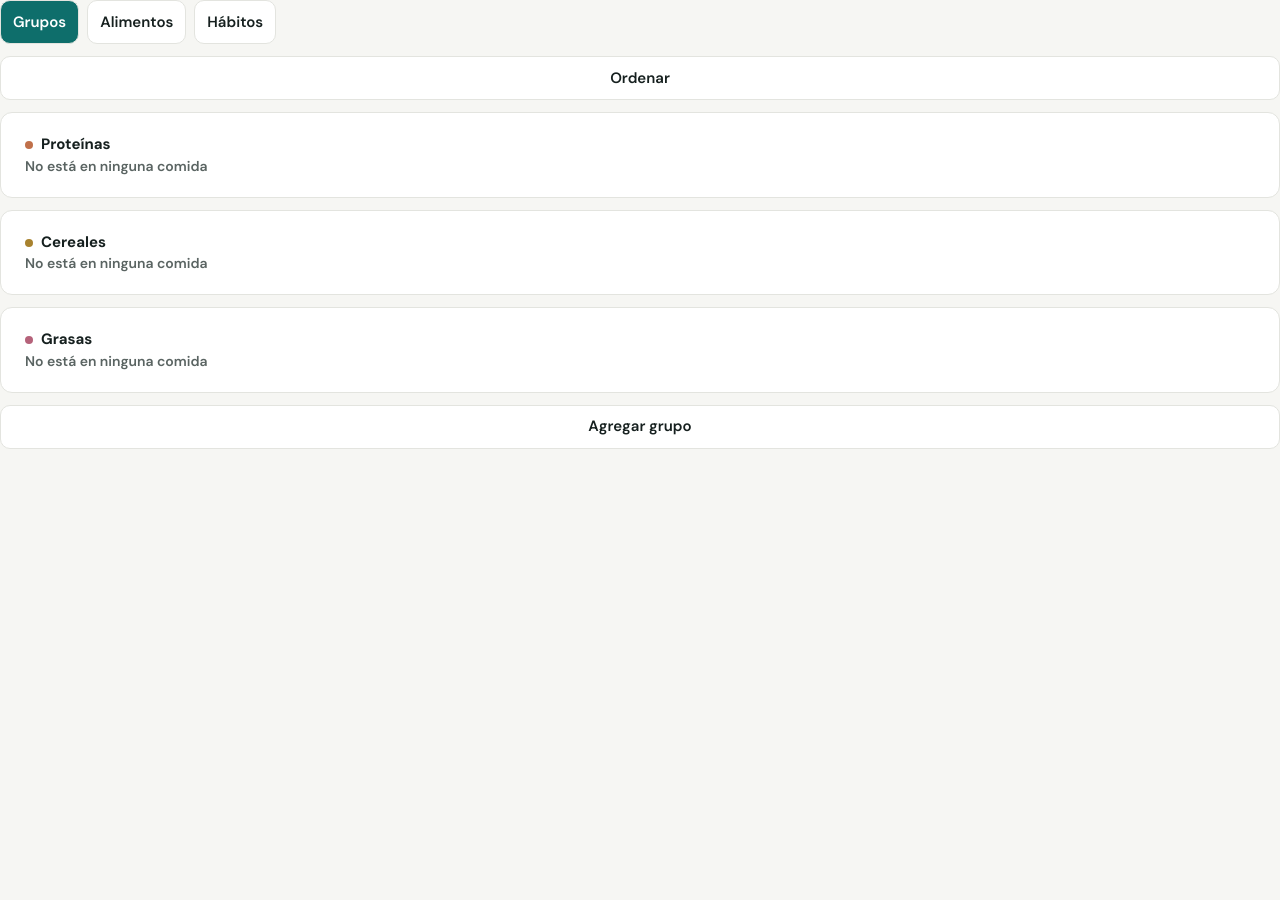
Test: muestra GROUP_IN_USE del backend
Expected: the text "Proteínas" is shown, x1=25 y1=134 x2=110 y2=154
Click the button with aria-label "Editar Proteínas". click: (76, 144)
box: x1=13 y1=125 x2=1267 y2=184
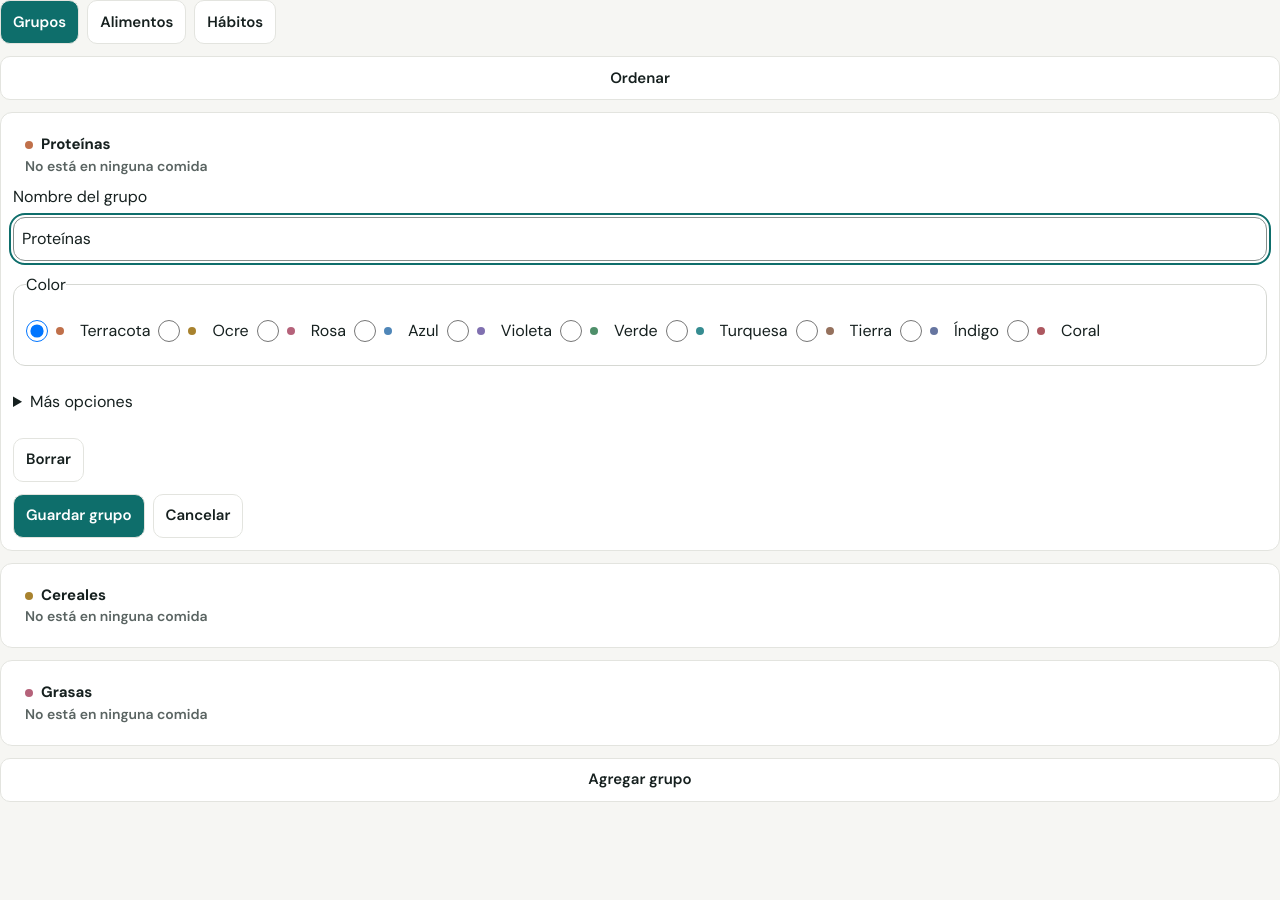
Click the button with aria-label "Borrar Proteínas". click: (48, 460)
box: x1=13 y1=438 x2=84 y2=482
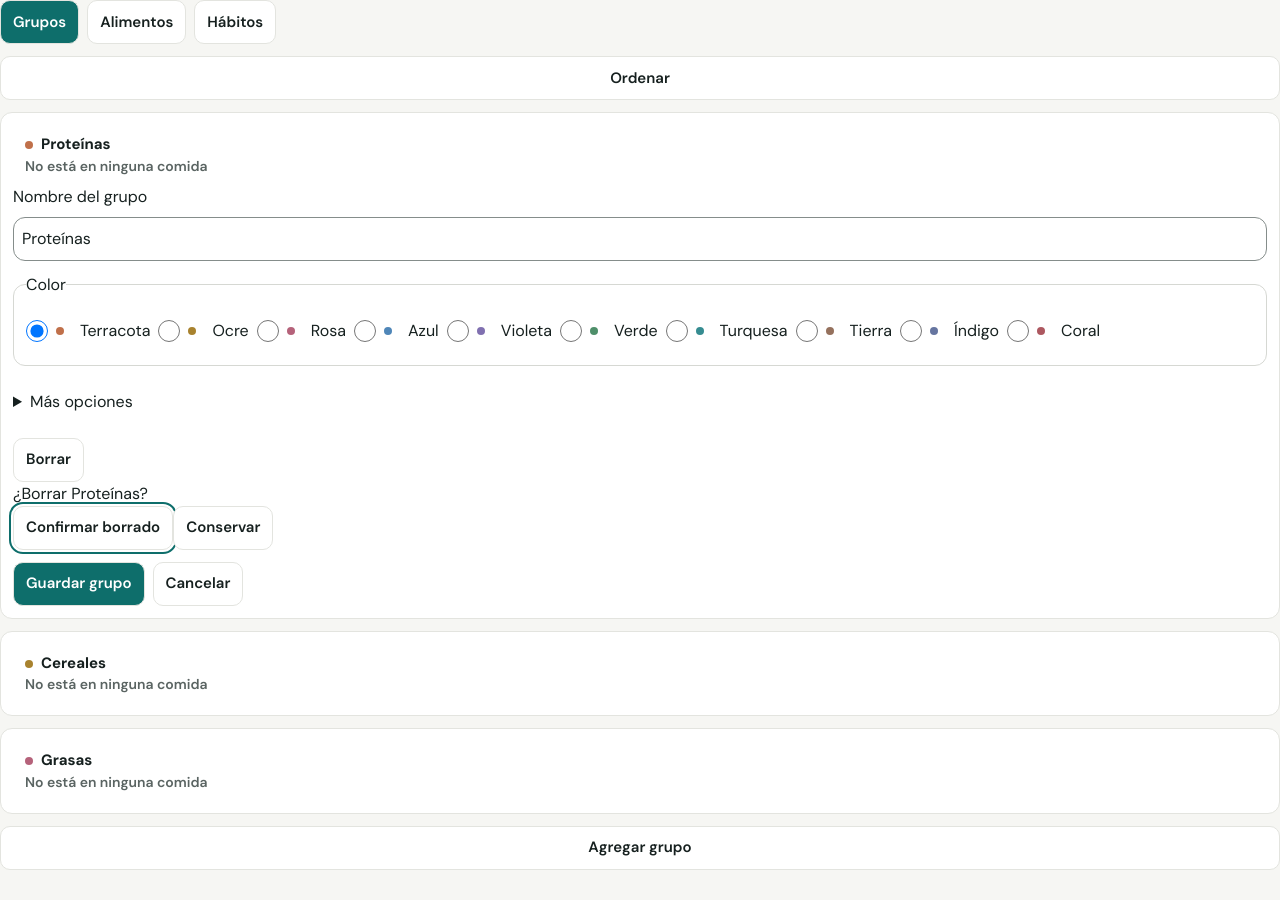
Click the button "Confirmar borrado". click: (93, 528)
box: x1=13 y1=506 x2=173 y2=550
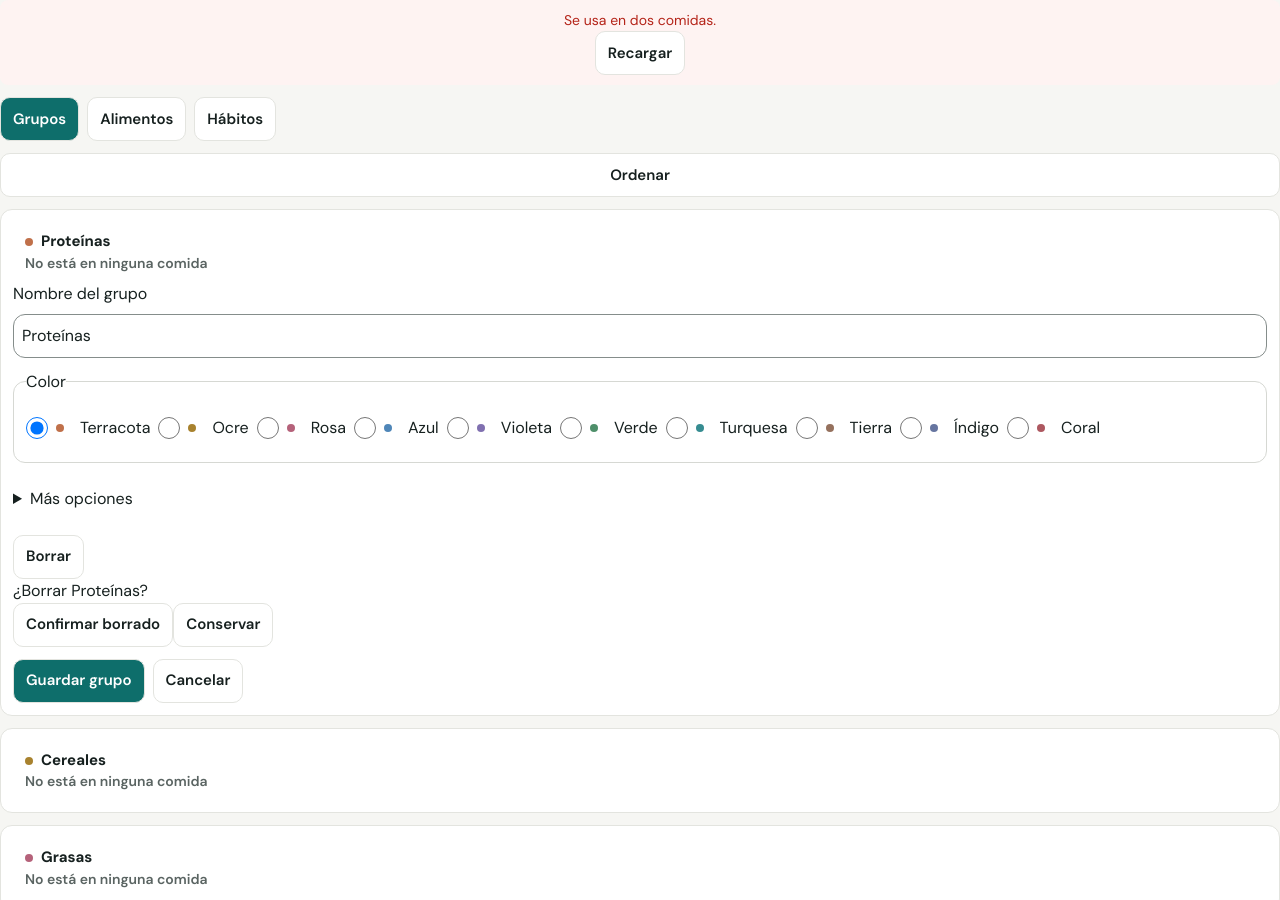
Now the message shows "Se usa en dos comidas.", box x1=564 y1=11 x2=716 y2=29
